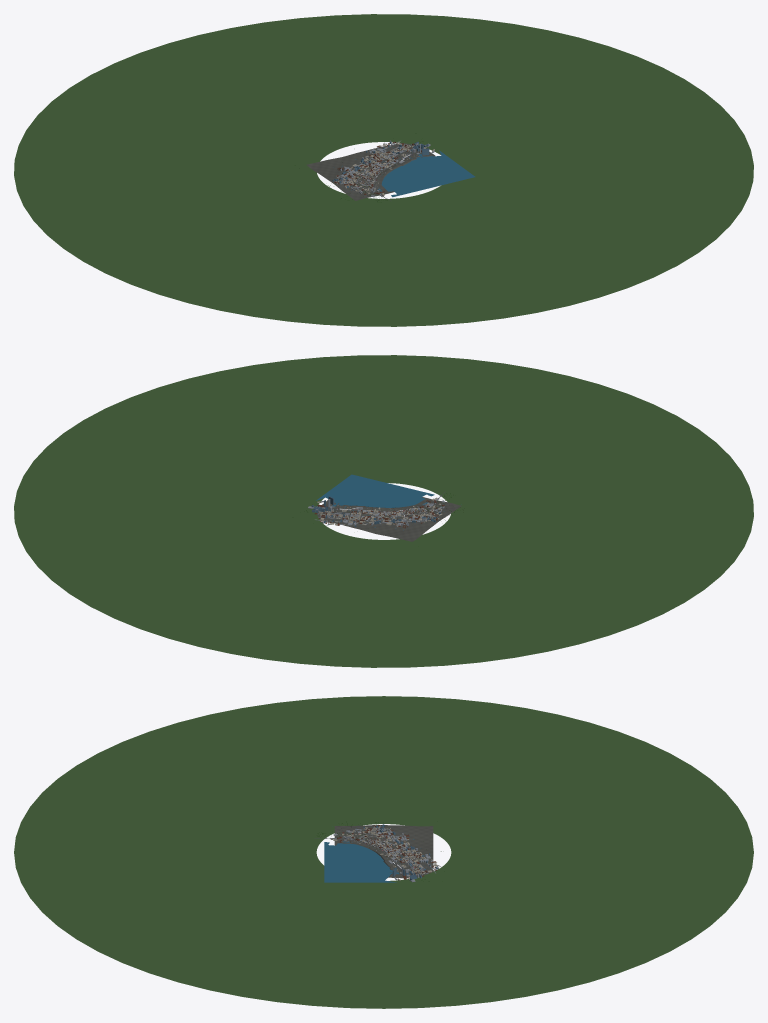
The model's file is baku.glb.
3 renders of one model, top to bottom at view 1: azimuth 30°, elevation 25°; view 2: azimuth 150°, elevation 25°; view 3: azimuth 270°, elevation 25°, orthographic.
Visible parts, largest first — view 1: RL_Circuit; view 2: RL_Circuit; view 3: RL_Circuit.
Part boxes in pixels (left/top/right/bottom): RL_Circuit: left=14, top=14, right=753, bottom=326; RL_Circuit: left=14, top=355, right=753, bottom=667; RL_Circuit: left=14, top=696, right=753, bottom=1008.
Size of the model in its own units: 18000 by 231 by 18000.
91 materials, 65 textured.
